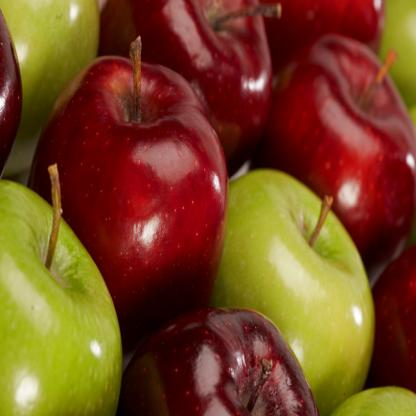apple: (31, 61, 236, 336), (96, 0, 273, 200), (268, 32, 416, 261)
